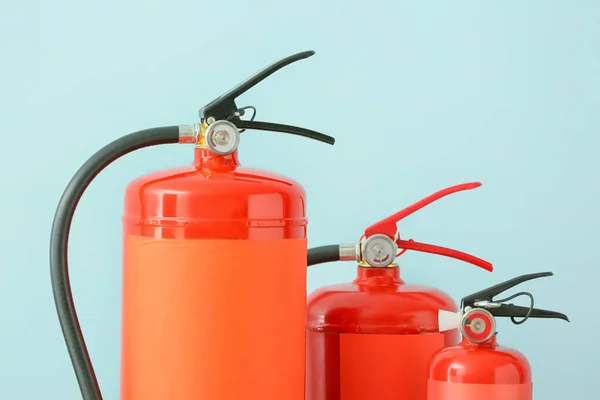fire_extinguisher: (49, 50, 569, 400), (49, 50, 336, 400), (305, 180, 494, 400), (425, 271, 570, 400)
